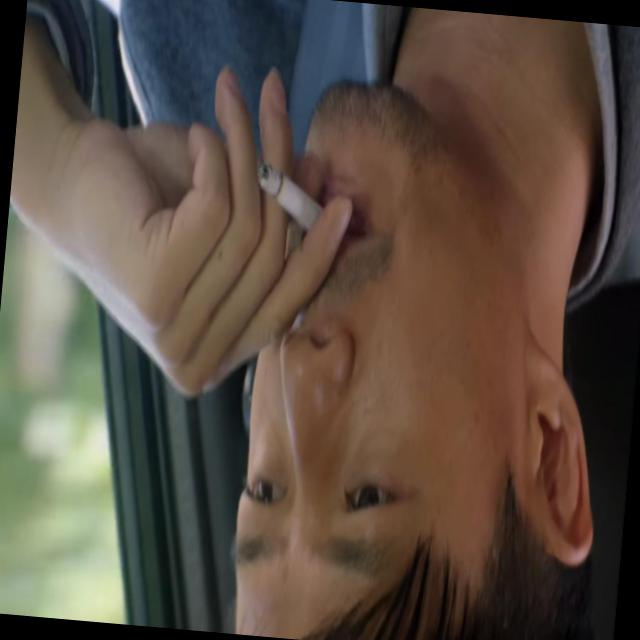smoke: (250, 133, 330, 235)
